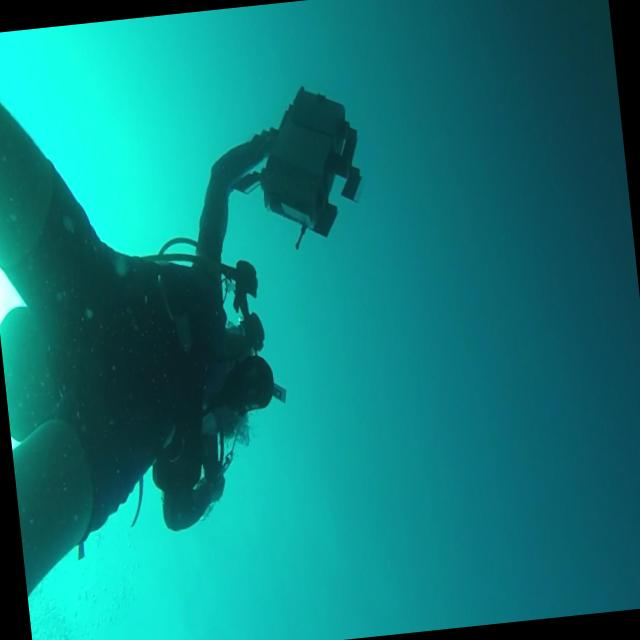human: (0, 3, 334, 640)
